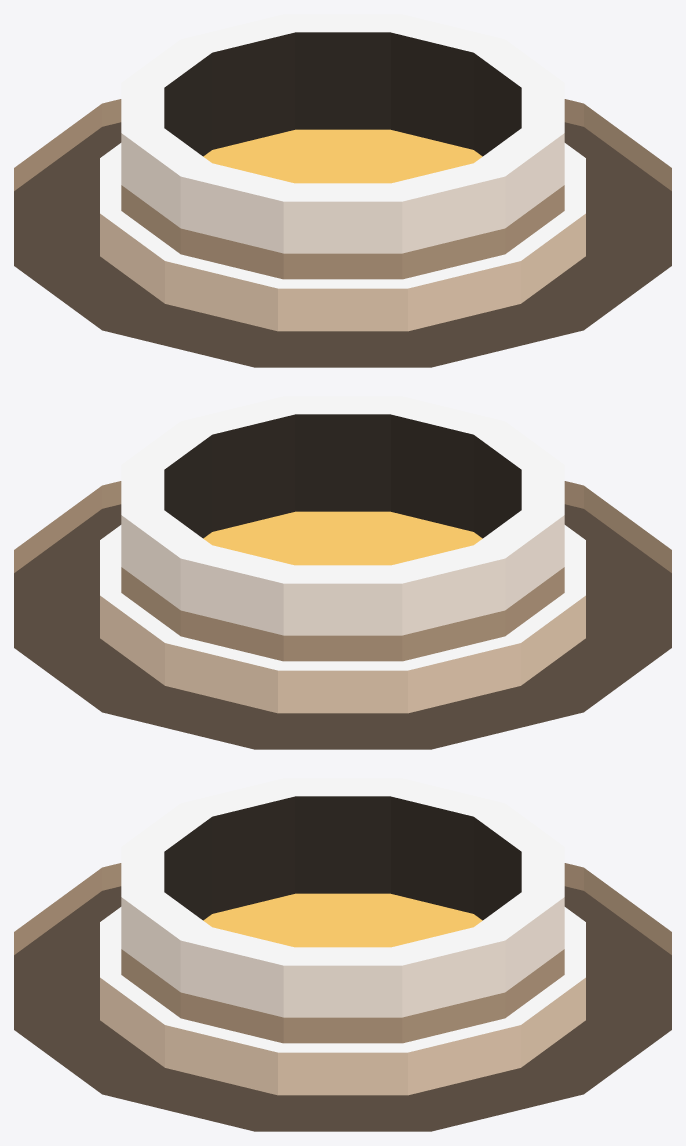
The model's file is earth_ground.glb.
3 views of the same model, one above another, from view 1: azimuth 30°, elevation 25°; view 2: azimuth 150°, elevation 25°; view 3: azimuth 270°, elevation 25° (orthographic).
Parts seen in each view (by area): view 1: earth_ground; view 2: earth_ground; view 3: earth_ground.
Boxes of the visible parts, box(x1,y1,x2,y2) form: earth_ground: box(14, 14, 671, 367); earth_ground: box(14, 396, 671, 749); earth_ground: box(14, 778, 671, 1131).
Bounding box in the file's own units: 15.32 × 3.1 × 15.32.
Materials: 1 (1 with a texture image).
